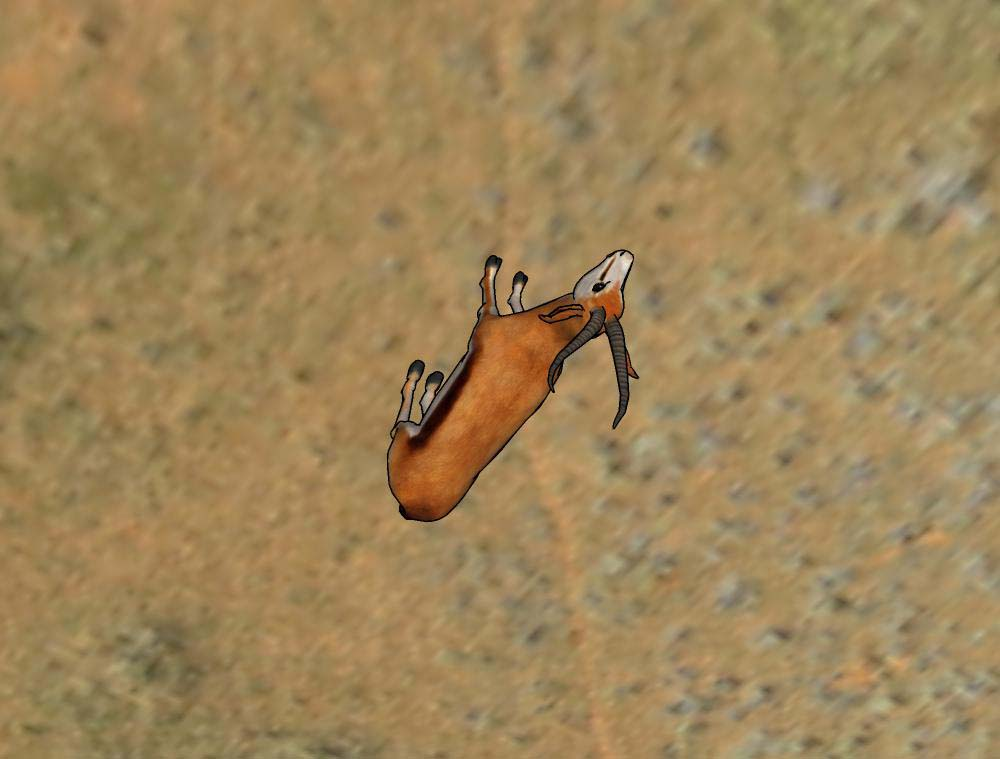springbok: (387, 229, 642, 542)
